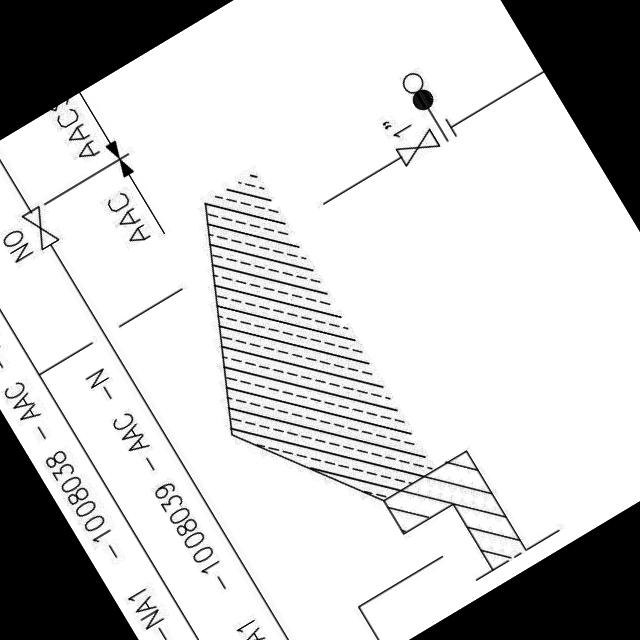GV: (390, 121, 448, 172), (16, 199, 64, 254)
